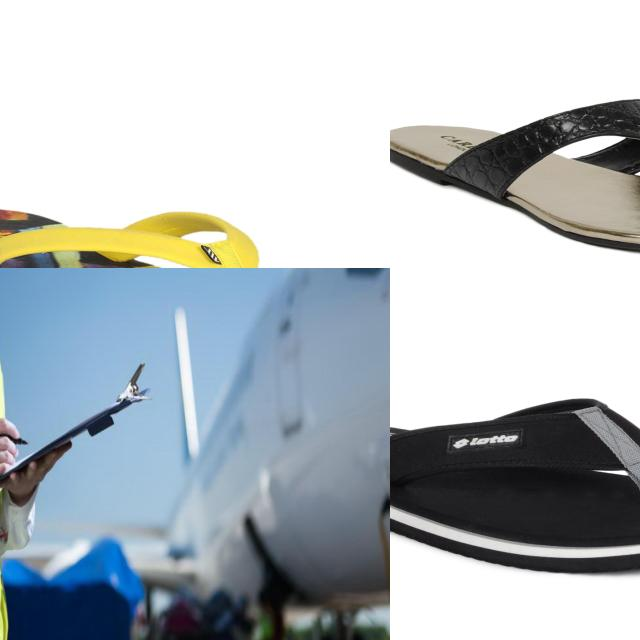Sandals: (390, 395, 640, 577), (390, 97, 640, 259), (0, 204, 354, 268)
